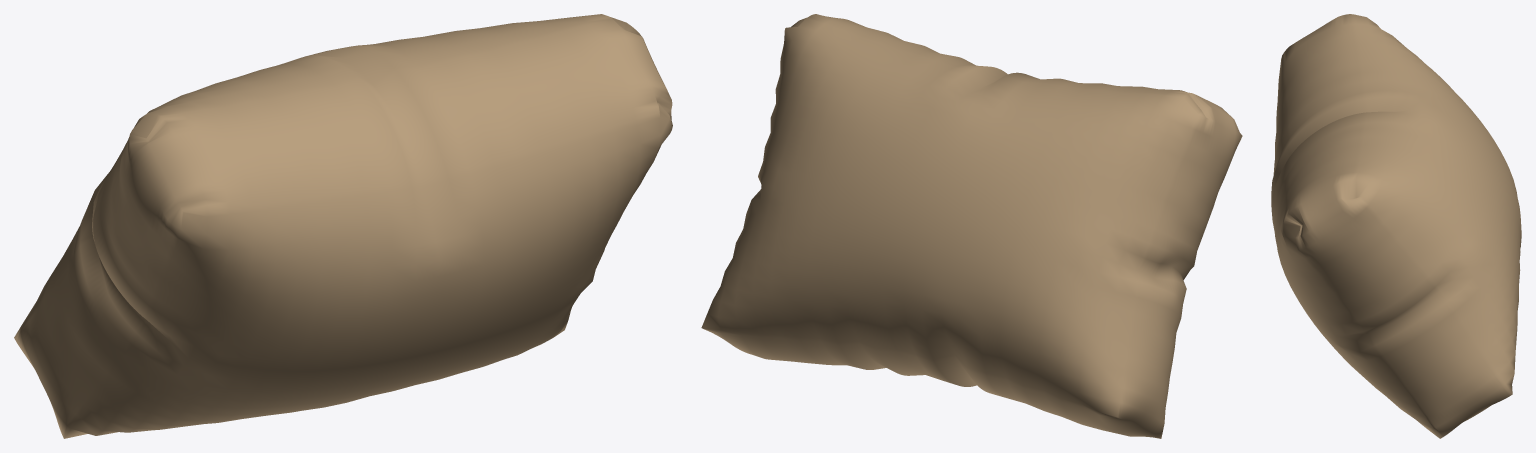
Rendered from coussin-chaise.glb.
3 views of the same model, side by side, from view 1: azimuth 30°, elevation 25°; view 2: azimuth 150°, elevation 25°; view 3: azimuth 270°, elevation 25° (orthographic). The views are drawn at different scales.
Parts seen in each view (by area): view 1: Coussin.009; view 2: Coussin.009; view 3: Coussin.009.
Boxes of the visible parts, x1=… form: Coussin.009: x1=14, y1=14, x2=672, y2=438; Coussin.009: x1=701, y1=14, x2=1242, y2=438; Coussin.009: x1=1271, y1=14, x2=1521, y2=438.
Size of the model in its own units: 5.92 by 4.06 by 3.49.
